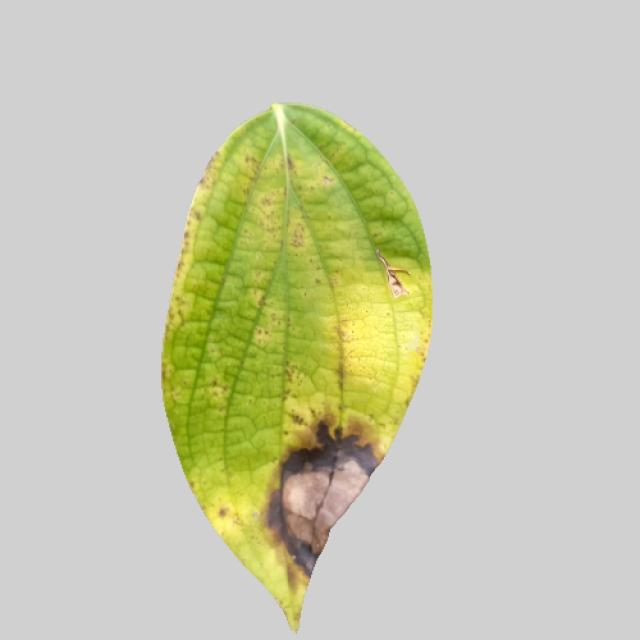leaf-blight: (152, 107, 436, 634)
